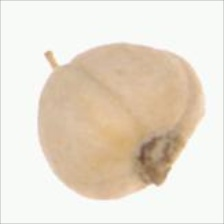L3: (42, 48, 66, 77)
L4: (38, 44, 204, 199)
